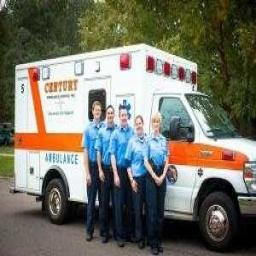Ambulance: (13, 44, 255, 249)
